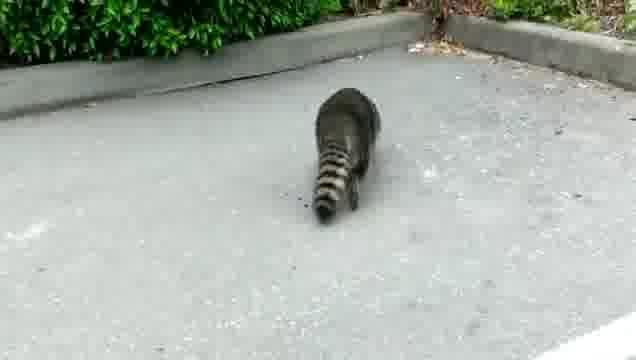raccoon: (314, 84, 384, 227)
